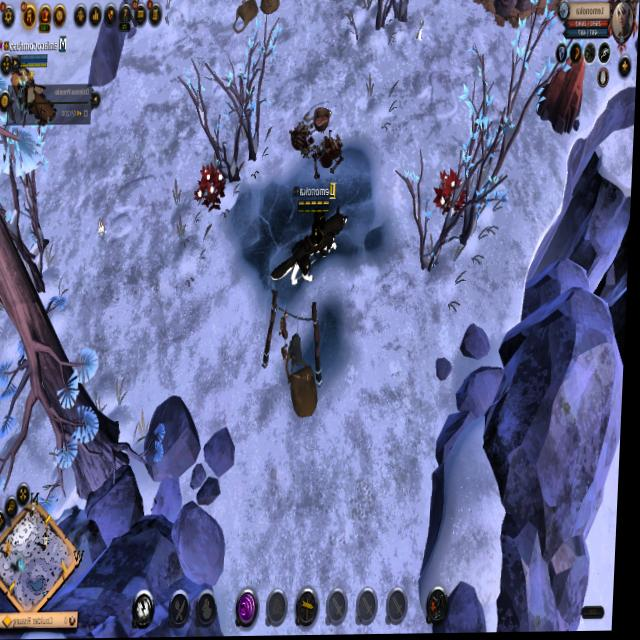fiber tier 5: (194, 157, 230, 214), (434, 168, 470, 219)
